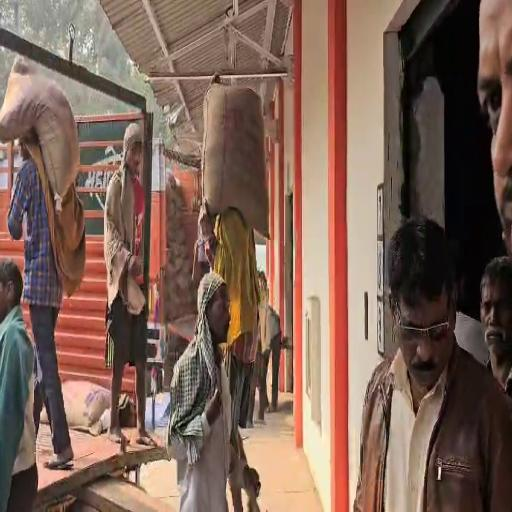bag: (2, 50, 84, 209), (200, 69, 274, 244)
